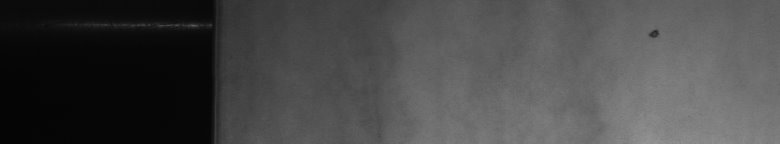fi: (644, 24, 664, 44)
